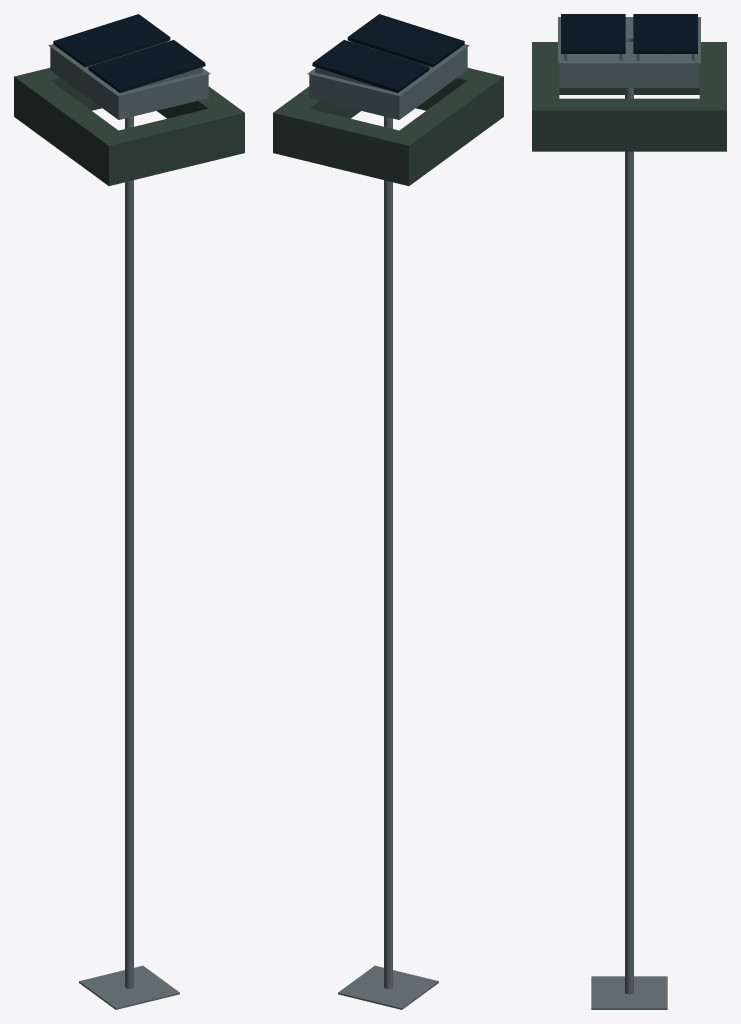
3 renders of one model, left to right at view 1: azimuth 30°, elevation 25°; view 2: azimuth 150°, elevation 25°; view 3: azimuth 270°, elevation 25°, orthographic. The views are drawn at different scales.
Parts seen in each view (by area): view 1: SV3_FLOAT_COLLAR, SV3_POLE_60MM, SV3_OPEN_BOTTOM_SKIRT, SV3_PANEL_B, SV3_PANEL_A, SV3_SEABED_FOOTING_PLATE, SV3_TRAY_PLATE; view 2: SV3_FLOAT_COLLAR, SV3_POLE_60MM, SV3_OPEN_BOTTOM_SKIRT, SV3_PANEL_A, SV3_PANEL_B, SV3_SEABED_FOOTING_PLATE, SV3_TRAY_PLATE; view 3: SV3_FLOAT_COLLAR, SV3_POLE_60MM, SV3_OPEN_BOTTOM_SKIRT, SV3_PANEL_A, SV3_PANEL_B, SV3_SEABED_FOOTING_PLATE, SV3_TRAY_PLATE.
Boxes of the visible parts, x1,y1,x2,y2 form: SV3_FLOAT_COLLAR: (14,68,244,185); SV3_POLE_60MM: (125,116,133,988); SV3_OPEN_BOTTOM_SKIRT: (50,47,208,119); SV3_PANEL_B: (53,14,170,67); SV3_PANEL_A: (88,40,205,92); SV3_SEABED_FOOTING_PLATE: (79,965,179,1009); SV3_TRAY_PLATE: (48,44,210,96); SV3_FLOAT_COLLAR: (273,68,503,185); SV3_POLE_60MM: (384,116,392,988); SV3_OPEN_BOTTOM_SKIRT: (309,47,467,119); SV3_PANEL_A: (347,14,464,67); SV3_PANEL_B: (312,40,429,92); SV3_SEABED_FOOTING_PLATE: (338,965,438,1009); SV3_TRAY_PLATE: (307,44,469,96); SV3_FLOAT_COLLAR: (532,42,726,151); SV3_POLE_60MM: (625,38,633,994); SV3_OPEN_BOTTOM_SKIRT: (559,63,699,87); SV3_PANEL_A: (561,14,625,53); SV3_PANEL_B: (633,14,697,53); SV3_SEABED_FOOTING_PLATE: (591,976,667,1009); SV3_TRAY_PLATE: (558,17,700,63).
Size of the model in its own units: 1.06 by 7 by 1.28.
